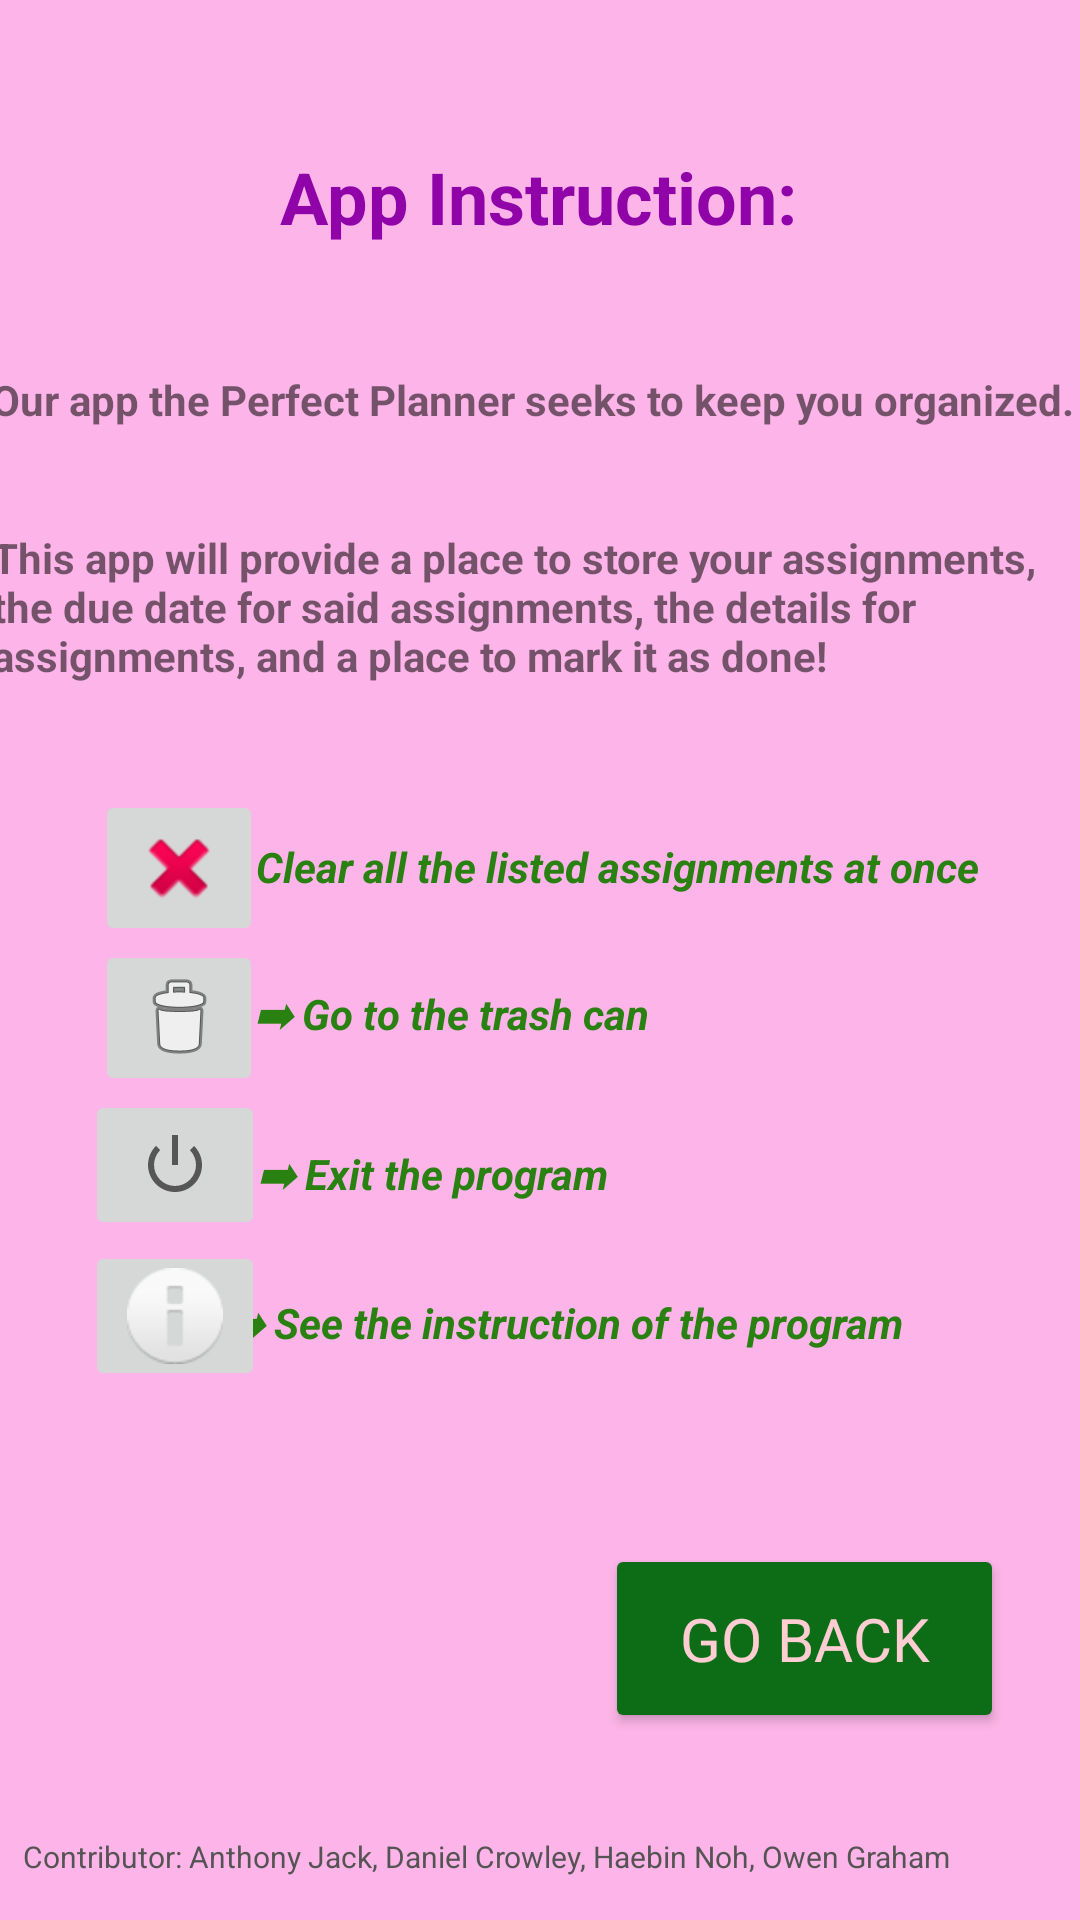

Icons on this 1080×1920 Android screen, each with the point to tap as [x,y]:
info button: [181,1316]
remove button: [179,1018]
